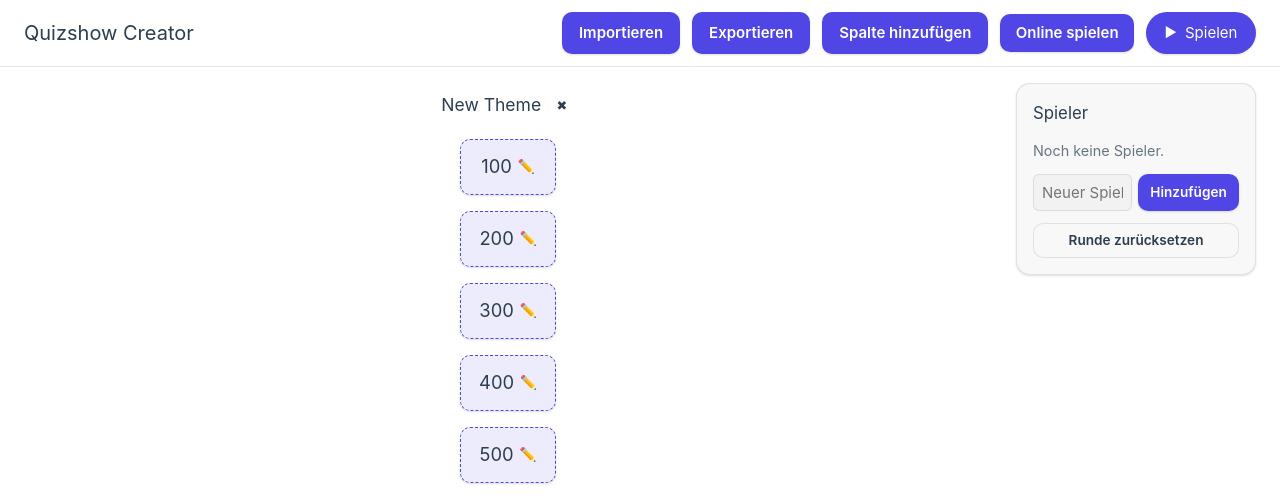
Test case: App › Import › asks before replacing existing themes
This screenshot has width=1280, height=501.
Click the button "Importieren" at point(621, 33), box [562,12,680,54]
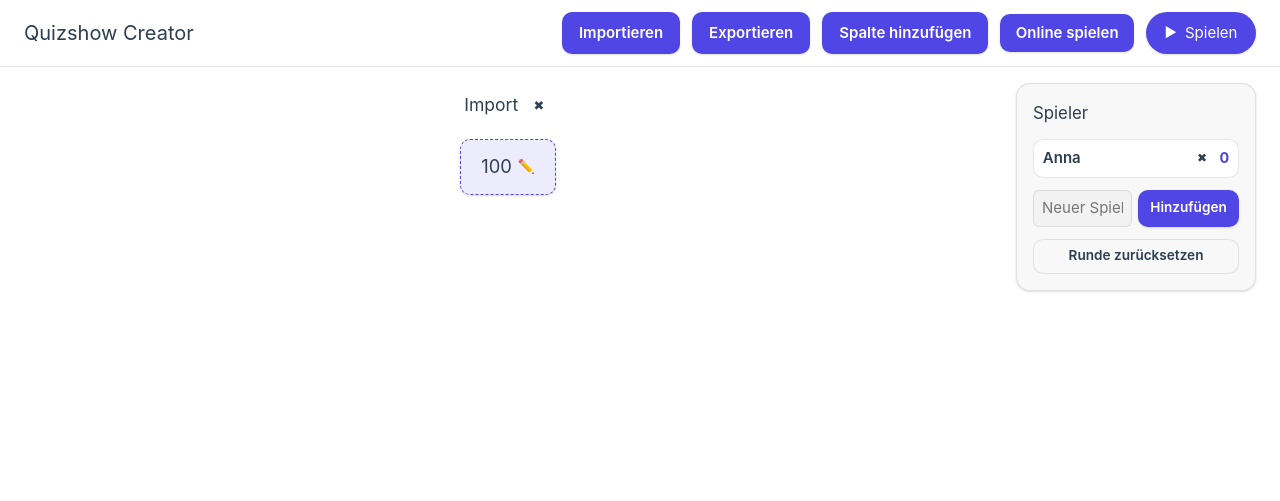
Result: the heading "Import" is shown at [464,91,518,119]
